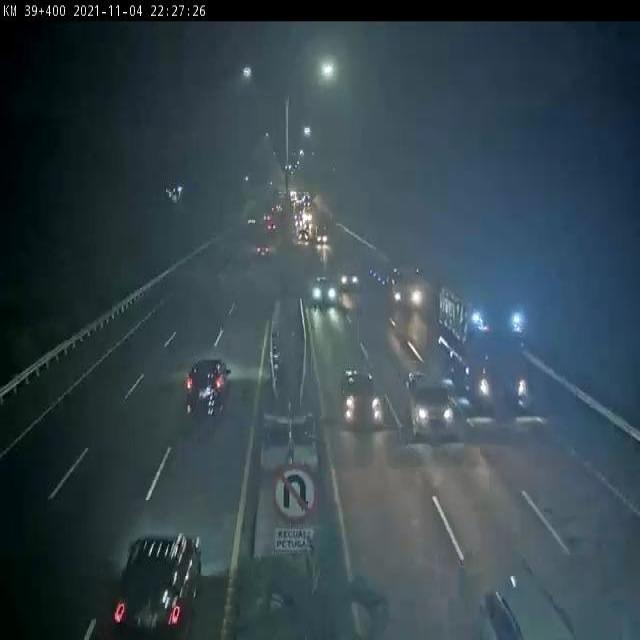car: (112, 533, 203, 631), (404, 369, 459, 435), (187, 358, 233, 414), (341, 365, 381, 428), (312, 276, 335, 303), (340, 267, 358, 288)
truck-l-: (438, 283, 529, 416)
truck-xl-: (367, 252, 421, 308)
